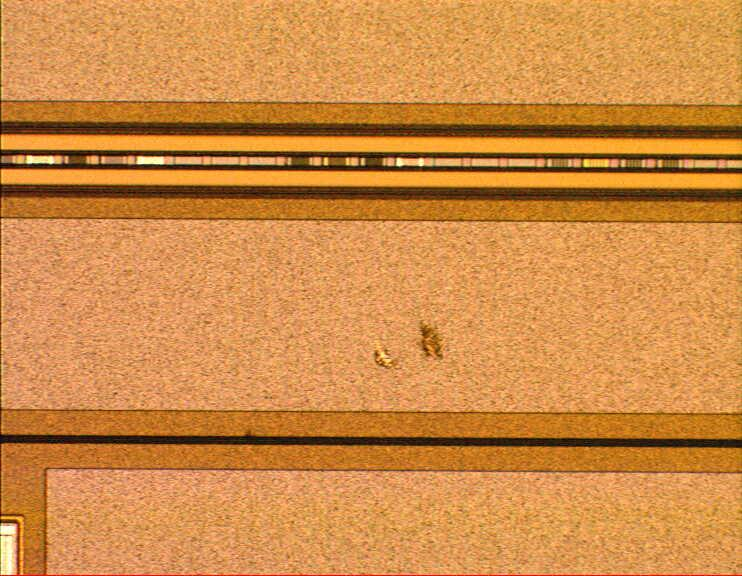SCRATCH: (365, 313, 461, 380)
